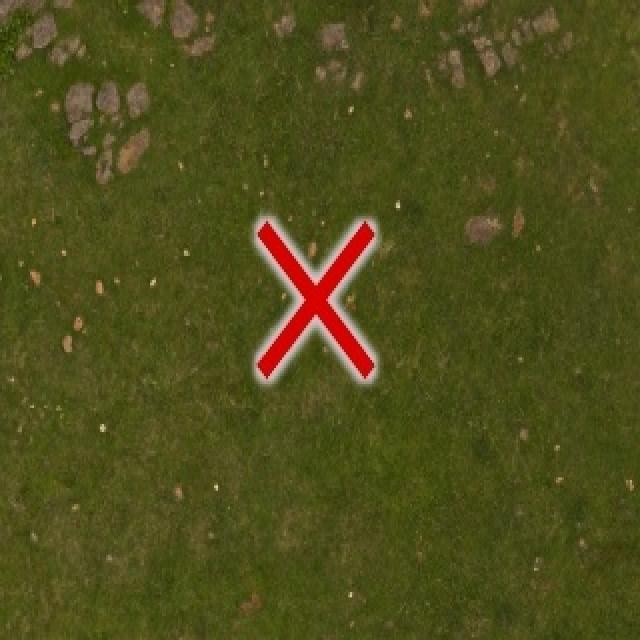x_marker: (257, 220, 373, 377)
